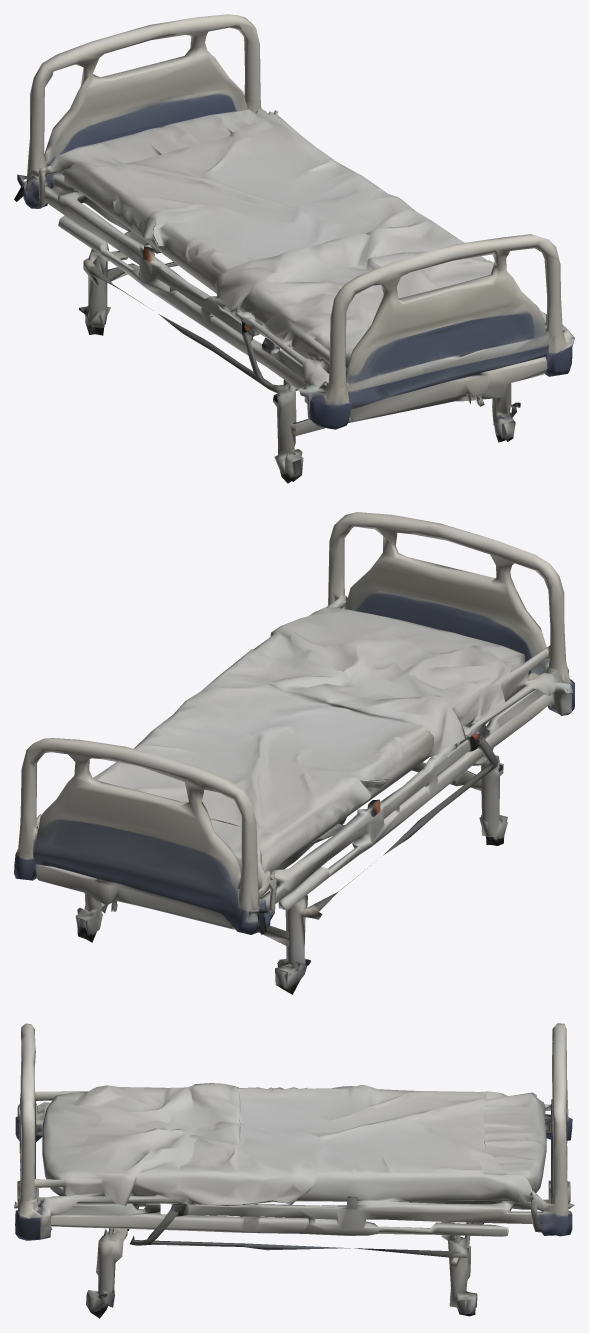
Rendered from level1-hospital-bed.glb.
3 renders of one model, top to bottom at view 1: azimuth 30°, elevation 25°; view 2: azimuth 150°, elevation 25°; view 3: azimuth 270°, elevation 25°, orthographic. The views are drawn at different scales.
Parts seen in each view (by area): view 1: tripo_node_0765689e-bb18-4e4a-abc1-e5ca3b4df749; view 2: tripo_node_0765689e-bb18-4e4a-abc1-e5ca3b4df749; view 3: tripo_node_0765689e-bb18-4e4a-abc1-e5ca3b4df749.
Boxes of the visible parts, <box> form: tripo_node_0765689e-bb18-4e4a-abc1-e5ca3b4df749: <box>14,14,574,483</box>; tripo_node_0765689e-bb18-4e4a-abc1-e5ca3b4df749: <box>14,512,574,994</box>; tripo_node_0765689e-bb18-4e4a-abc1-e5ca3b4df749: <box>14,1023,574,1318</box>.
Size of the model in its own units: 0.4479 by 0.4022 by 0.9301.
1 material, 1 textured.
